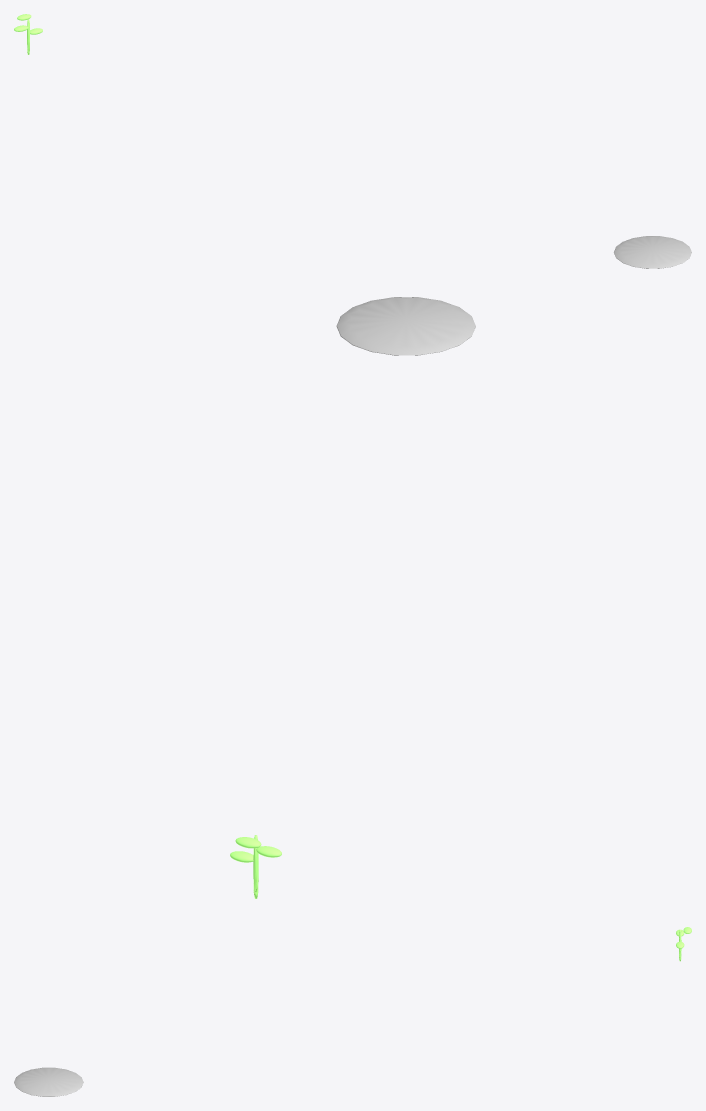
Rendered from farm_crop_tomato_s1_v3.glb.
3 renders of one model, top to bottom at view 1: azimuth 30°, elevation 25°; view 2: azimuth 150°, elevation 25°; view 3: azimuth 270°, elevation 25°, orthographic. The views are drawn at different scales.
Parts seen in each view (by area): view 1: soil.007; view 2: soil.007; view 3: soil.007.
Boxes of the visible parts, x1=… form: soil.007: x1=614, y1=236, x2=691, y2=268; soil.007: x1=336, y1=297, x2=475, y2=355; soil.007: x1=14, y1=1067, x2=83, y2=1096.
Size of the model in its own units: 2.59 by 0.3449 by 5.37.
